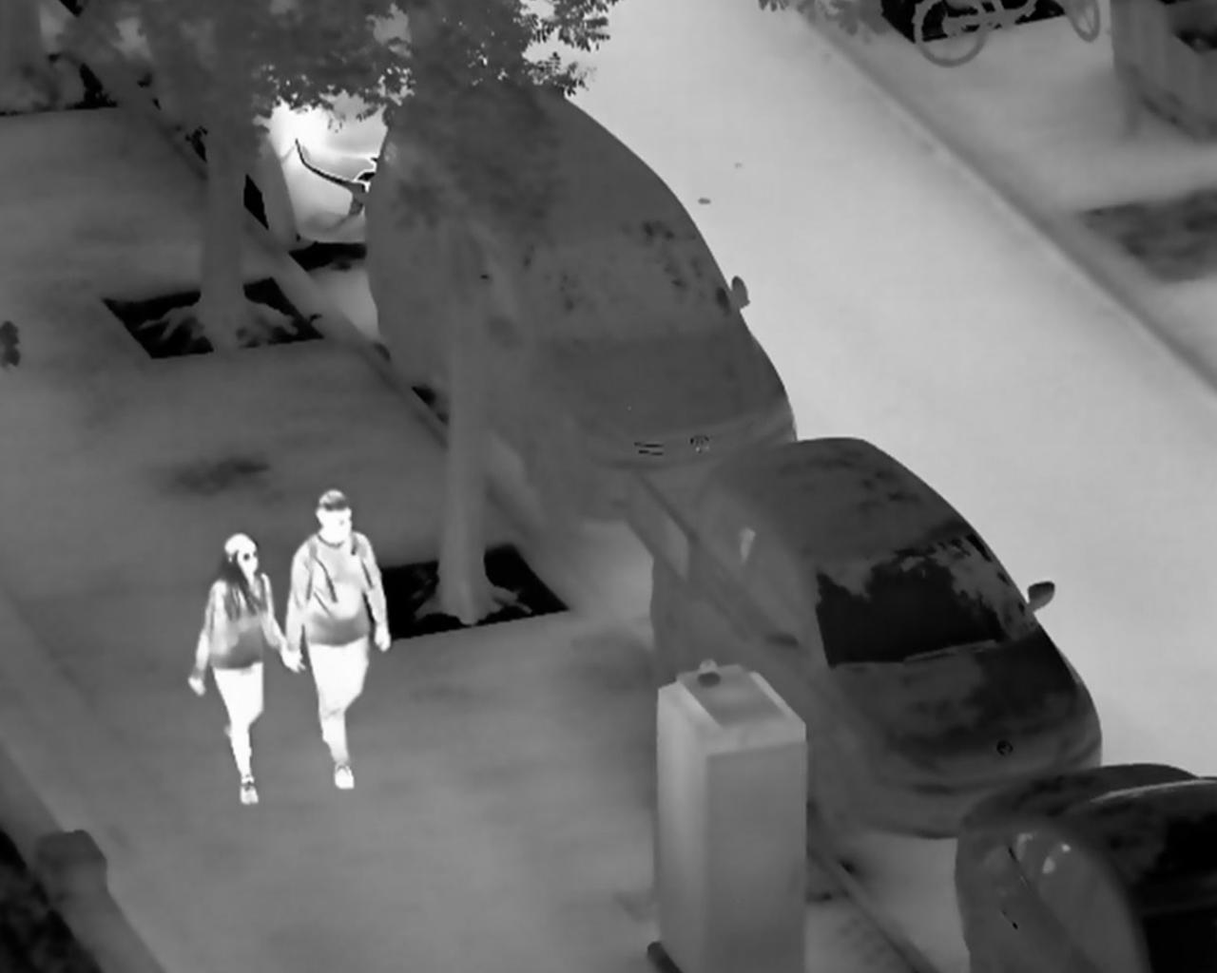person: (286, 488, 391, 792), (185, 529, 287, 806)
